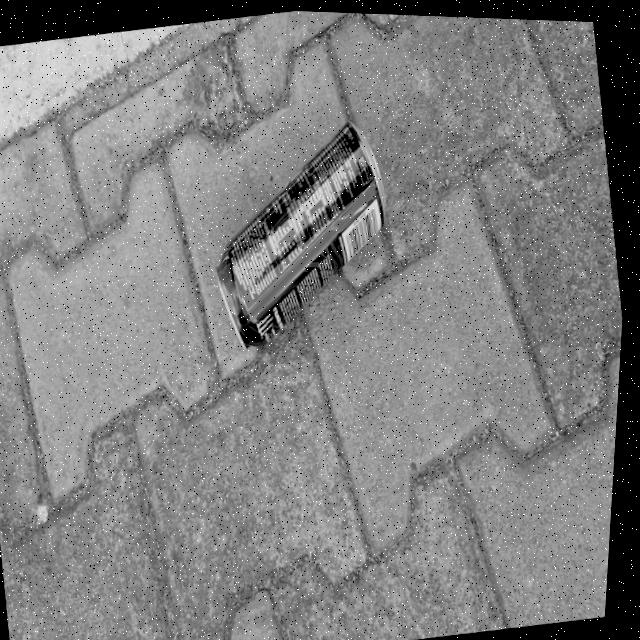Monster LH44: (186, 106, 420, 373)
